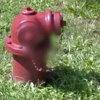Hydrant: (4, 4, 68, 83)
